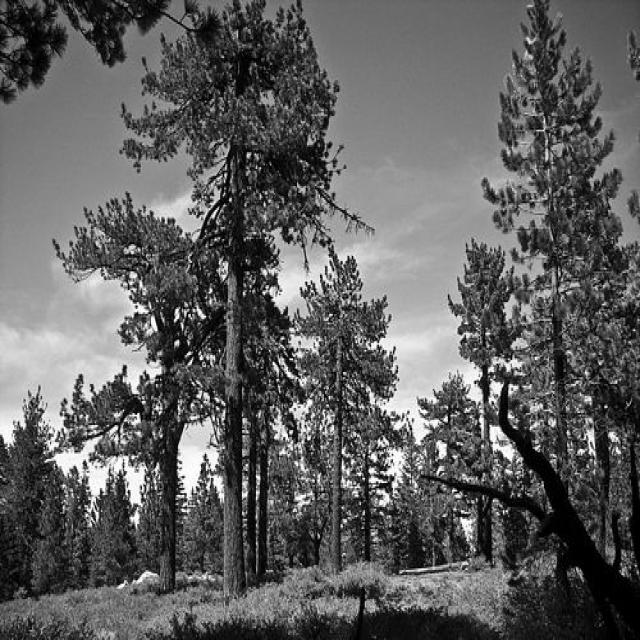Pinus jeffreyi: (114, 0, 377, 601), (290, 241, 408, 578)
